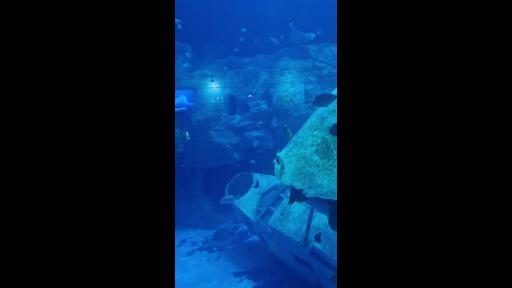Fish: (289, 187, 337, 231), (290, 23, 321, 43), (313, 93, 337, 108), (220, 195, 239, 203), (281, 96, 293, 106), (329, 123, 337, 137), (283, 125, 291, 138), (269, 38, 279, 45), (315, 233, 321, 243), (268, 243, 275, 251), (185, 131, 189, 140), (256, 122, 263, 127), (332, 88, 337, 94), (185, 53, 191, 58), (182, 64, 191, 67), (175, 19, 181, 23), (239, 38, 245, 42), (250, 160, 256, 164), (178, 24, 182, 29), (241, 28, 246, 32), (223, 67, 228, 70), (281, 35, 284, 40), (234, 48, 238, 51), (255, 39, 257, 43)
